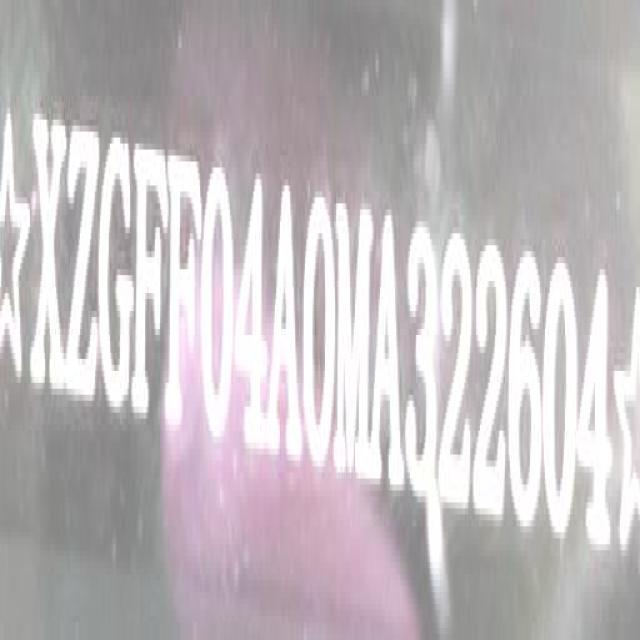0: (300, 178, 338, 482), (200, 154, 238, 457), (544, 256, 582, 546)
2: (438, 225, 476, 523), (472, 234, 509, 529)
3: (407, 217, 441, 510)
4: (574, 270, 614, 558), (233, 159, 270, 462)
6: (507, 248, 545, 537)
A: (269, 171, 303, 472), (372, 200, 406, 496)
F: (134, 124, 166, 437), (165, 135, 197, 437)
G: (100, 119, 137, 426)
M: (335, 188, 373, 491)
X: (30, 100, 68, 409)
Z: (65, 112, 99, 415)
